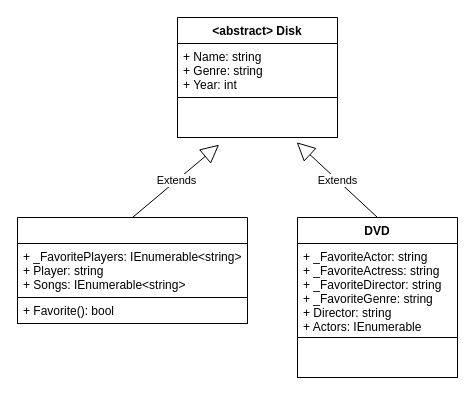
This 475x398 diagram has some shape labels left out. The shapes that lost their labels are listed below. From the top down, each one's box as (x1, y1, x2, y2) in pixels, then its label:
(176, 96, 338, 138): + Disk(string) + Favorite(): bool
(16, 216, 248, 324): CD
(296, 336, 458, 378): + DVD (string, string[]) + Favorite(): bool
